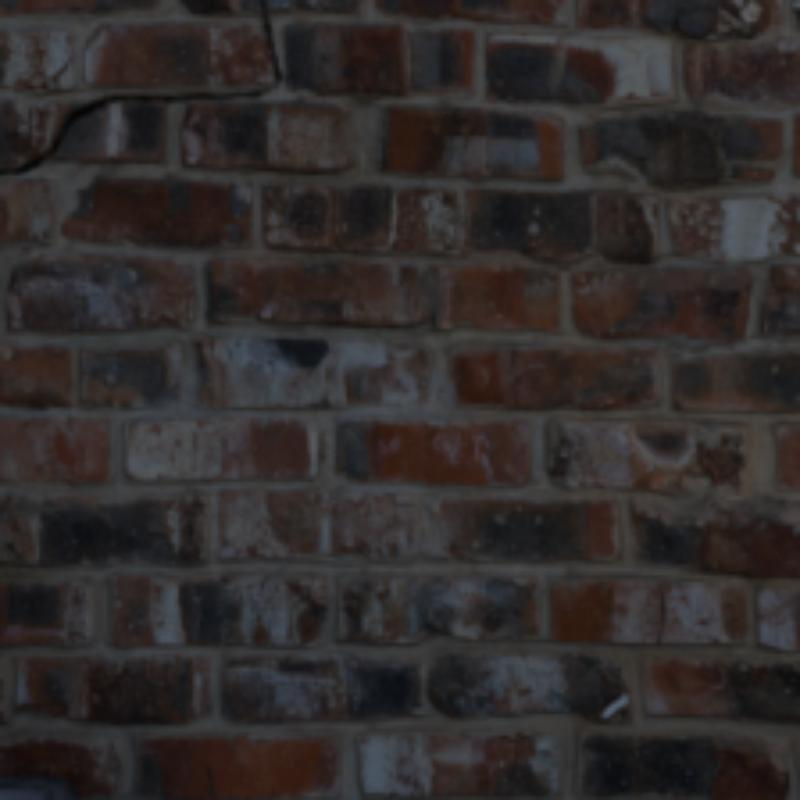pothole: (0, 0, 279, 175), (46, 61, 71, 86), (657, 589, 668, 643)
